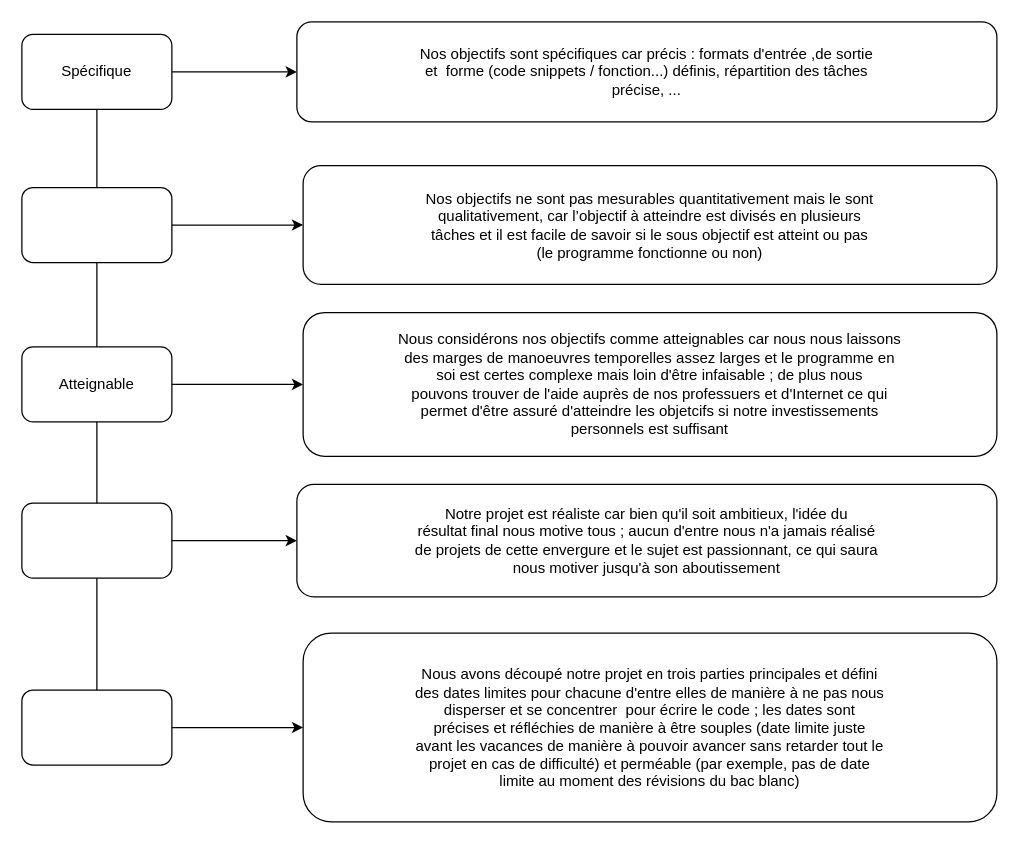
The diagram is 1019 pixels wide and 844 high, and some of its shapes have lost their labels. The centre of each missing label's shape, as x and y in pixels:
Mesurable: [96,224]
Réaliste: [96,540]
Temporellement défini: [96,727]
